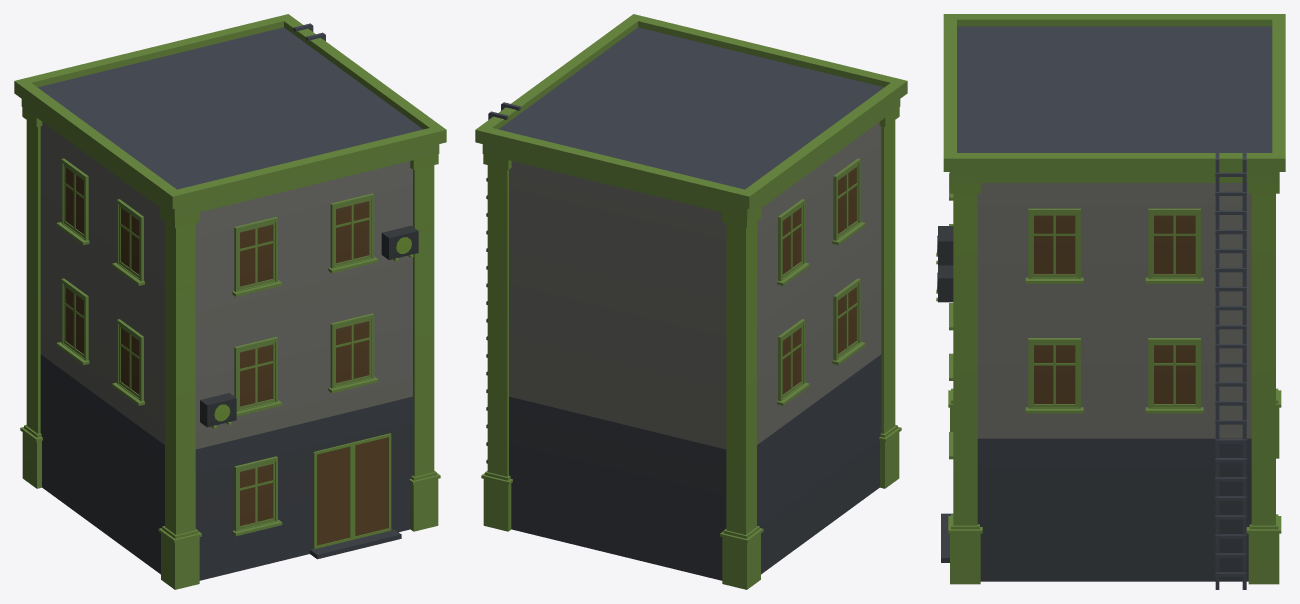
The model's file is House_13.fbx.
3 views of the same model, side by side, from view 1: azimuth 30°, elevation 25°; view 2: azimuth 150°, elevation 25°; view 3: azimuth 270°, elevation 25° (orthographic). The views are drawn at different scales.
Visible parts, largest first — view 1: House_13; view 2: House_13; view 3: House_13.
Part boxes in pixels (box(x1,y1,x2,y2)): House_13: box(14, 14, 446, 589); House_13: box(475, 14, 907, 589); House_13: box(936, 14, 1285, 589).
Size of the model in its own units: 6.68 by 9.07 by 6.65.
